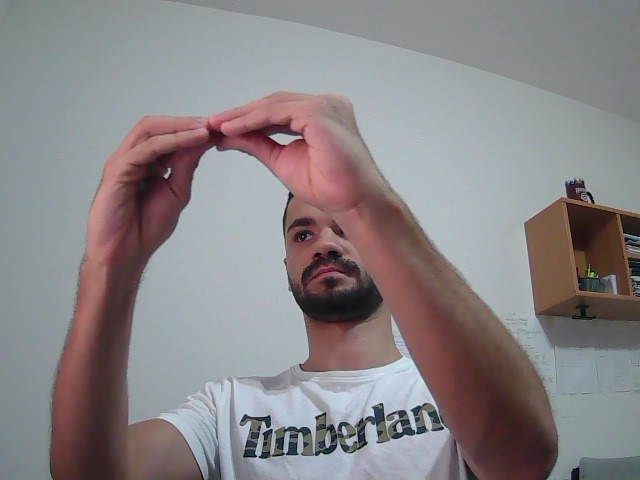b: (68, 85, 433, 293)
